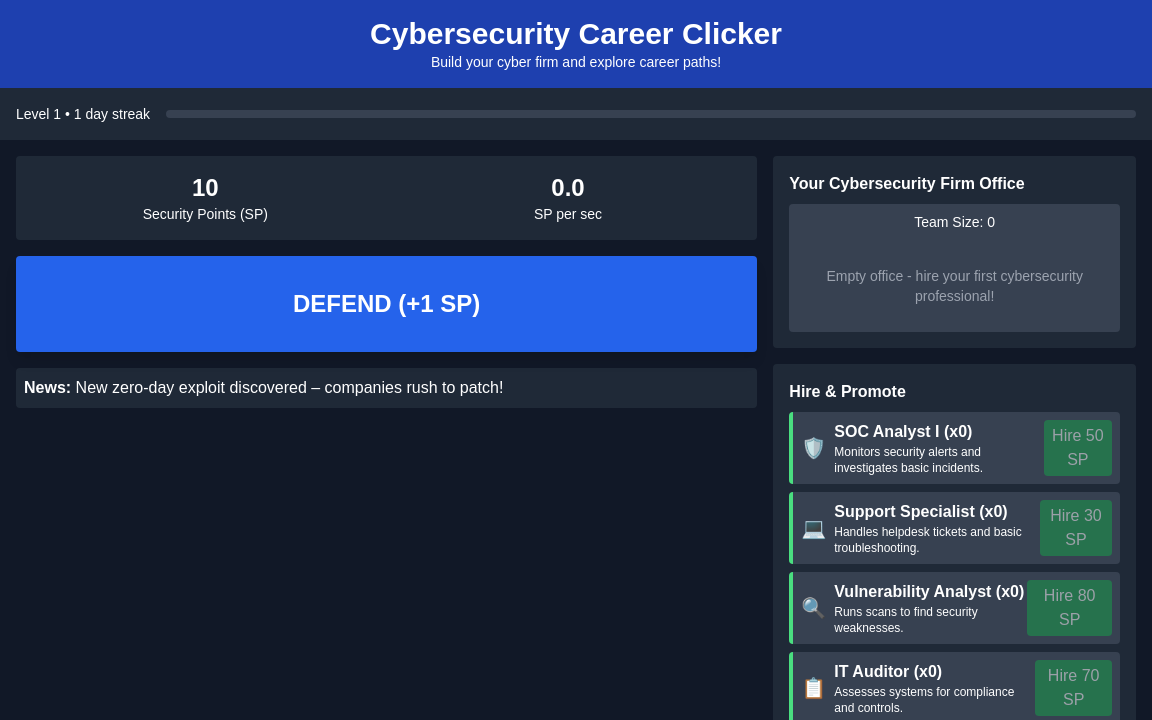
Test: CyberClickerGame - Middle School Engagement › DEFEND button should show click effects for engaging feedback
When clicked, should show visual feedback
Step 1. Click the button "DEFEND (+1 SP)" → (387, 304), box left=16, top=256, right=757, bottom=352
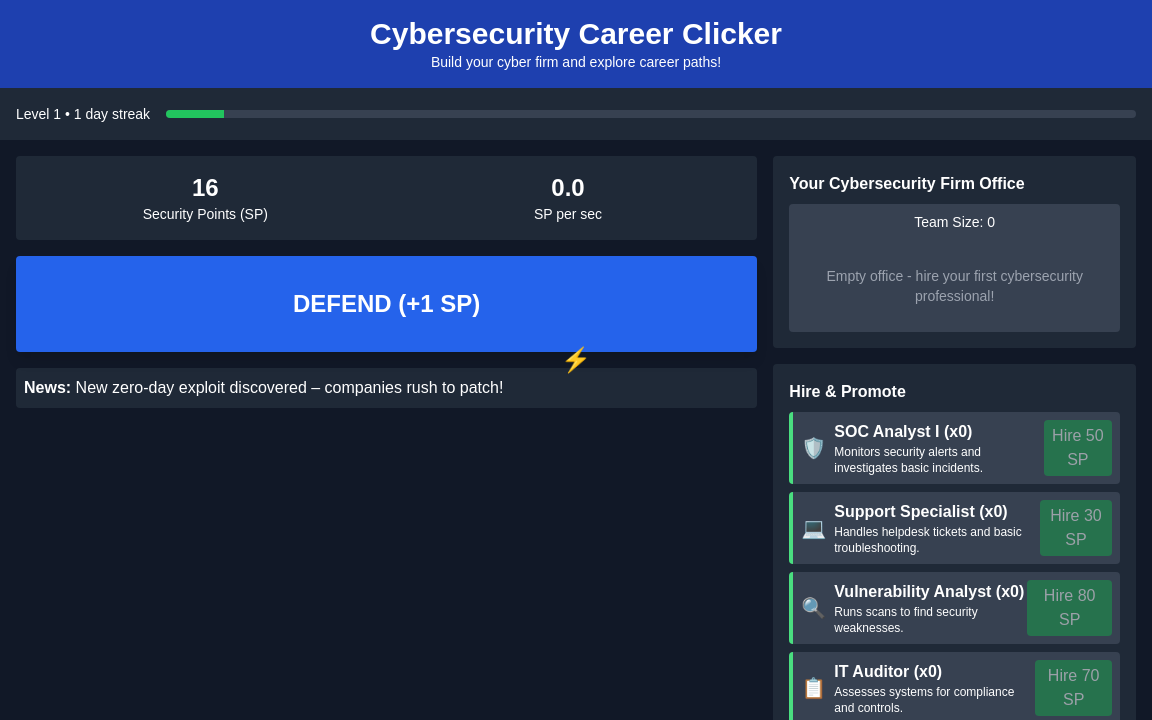
expect the element with test id "click-effect-animation" is shown: met, box left=561, top=344, right=591, bottom=376
